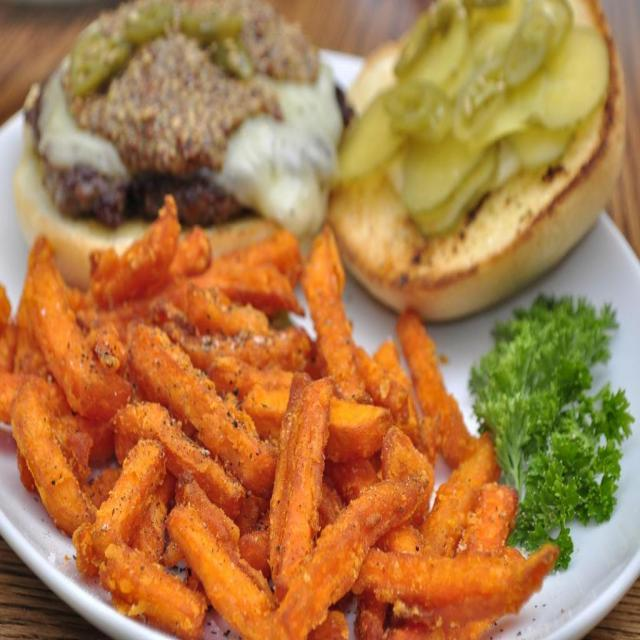Potato: (0, 188, 561, 640), (0, 365, 107, 533)
